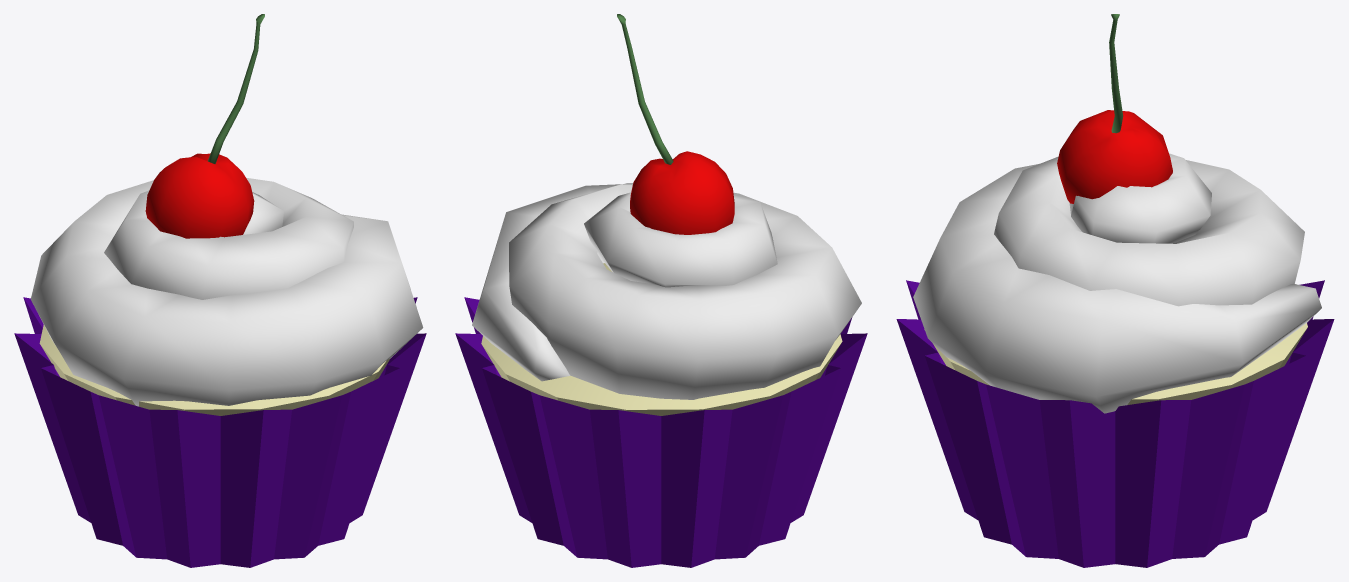
File: Cupcake.fbx
3 renders of one model, left to right at view 1: azimuth 30°, elevation 25°; view 2: azimuth 150°, elevation 25°; view 3: azimuth 270°, elevation 25°, orthographic. The views are drawn at different scales.
Parts seen in each view (by area): view 1: pHelix2, cupcake, cherry, cupcakeTop, pCylinder6; view 2: pHelix2, cupcake, cherry, cupcakeTop, pCylinder6; view 3: pHelix2, cupcake, cherry, cupcakeTop, pCylinder6.
Part boxes in pixels (x1,y1,x2,y2): pHelix2: (30,177,423,406); cupcake: (14,297,426,567); cherry: (145,153,254,238); cupcakeTop: (39,325,390,415); pCylinder6: (208,14,264,163); pHelix2: (472,183,861,399); cupcake: (455,297,867,567); cherry: (630,151,734,234); cupcakeTop: (481,263,842,415); pCylinder6: (617,14,673,164); pHelix2: (913,153,1321,413); cupcake: (896,280,1334,567); cherry: (1057,110,1172,203); cupcakeTop: (924,323,1307,404); pCylinder6: (1109,14,1123,133).
Size of the model in its own units: 2.89 by 3.73 by 2.88.
